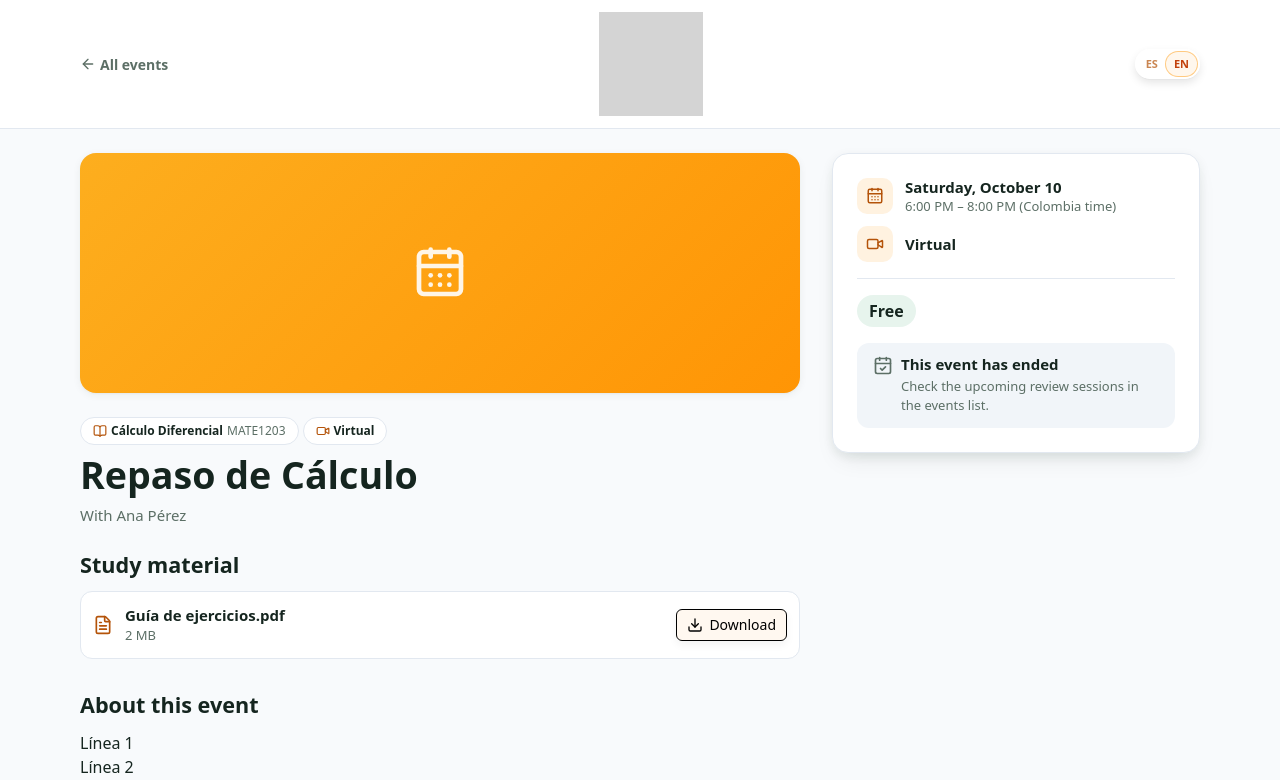
Scenario: EventDetailView › study material › unlocked: lists the files and asks for a fresh download URL on click
The width and height of the screenshot is (1280, 780).
Expected: the text "Guía de ejercicios.pdf" is shown, 125,605 -> 285,625
What coordinates should you click on to do the following:
click the button with aria-label "Download Guía de ejercicios.pdf"
I would click on:
 (732, 625)
Its box is 676,609 -> 787,641.
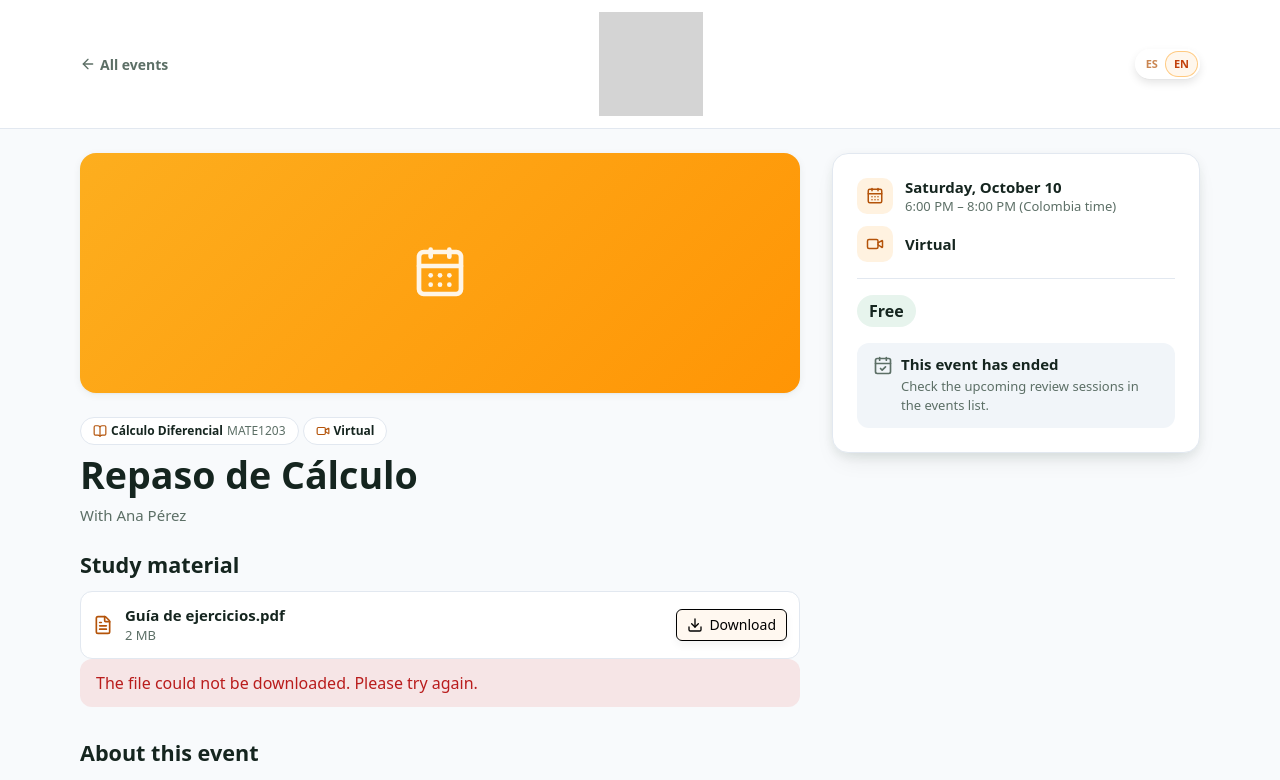
Now the text "The file could not be downloaded. Please try again." is shown, box 80,659 -> 800,707
